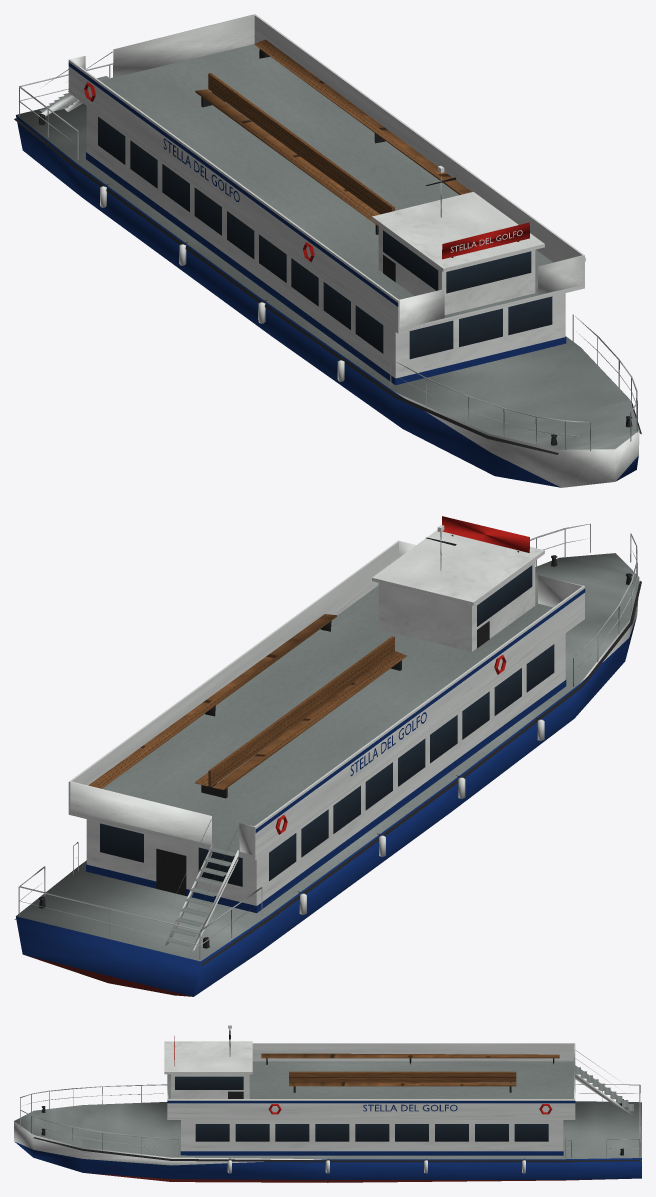
The model's file is SM_Morin_Battello_LOD1.fbx.
The picture shows the model from 3 angles, top to bottom: view 1: azimuth 30°, elevation 25°; view 2: azimuth 150°, elevation 25°; view 3: azimuth 270°, elevation 25°; orthographic projection. The views are drawn at different scales.
Parts seen in each view (by area): view 1: SM_Morin_Battello_LOD1; view 2: SM_Morin_Battello_LOD1; view 3: SM_Morin_Battello_LOD1.
Part boxes in pixels (box(x1,y1,x2,y2)): SM_Morin_Battello_LOD1: box(14, 14, 641, 487); SM_Morin_Battello_LOD1: box(14, 516, 641, 996); SM_Morin_Battello_LOD1: box(14, 1025, 641, 1182).
Size of the model in its own units: 750 by 3201 by 827.
Materials: 1 (1 with a texture image).
